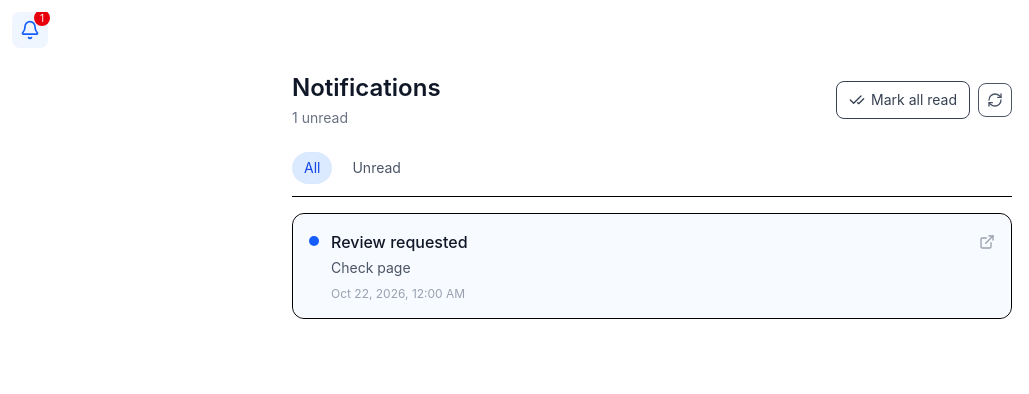
Test: notification read synchronization › does not claim a failed read succeeded
Step 1. Click the button "Mark all read" → (903, 100), box x1=836 y1=81 x2=970 y2=119
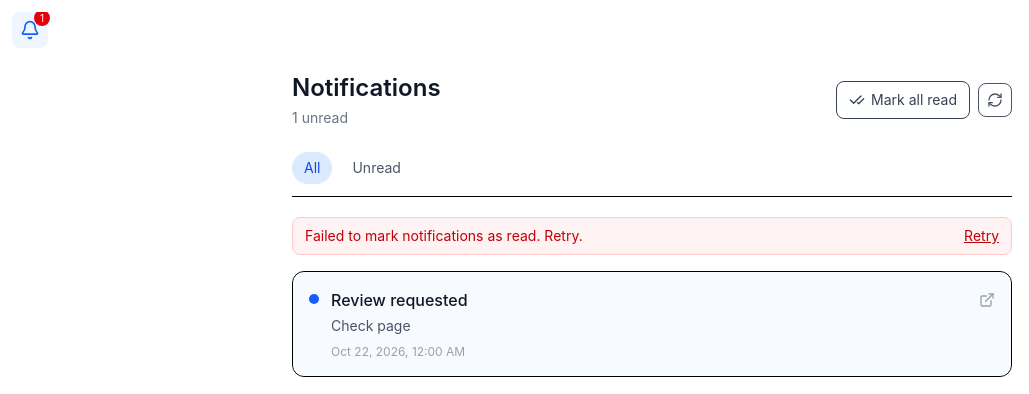
Check: the text "1 unread" is shown, box x1=292 y1=109 x2=348 y2=126
Check: the message shows "Failed to mark", box x1=305 y1=227 x2=583 y2=244
